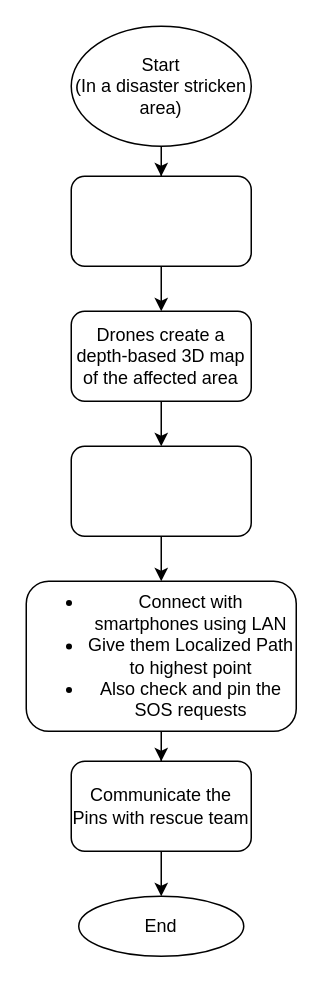
This 323x983 diagram has some shape labels left out. Each missing label, with the centre of its shape:
Disaster teams dispatch drones to affected area: (160,220)
Find the highest point for retrieval of victims: (160,490)
